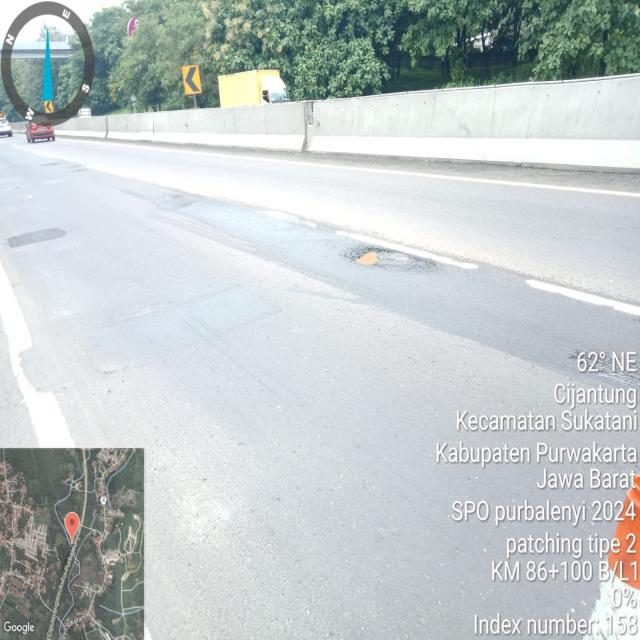Buraco: (346, 244, 440, 272)
